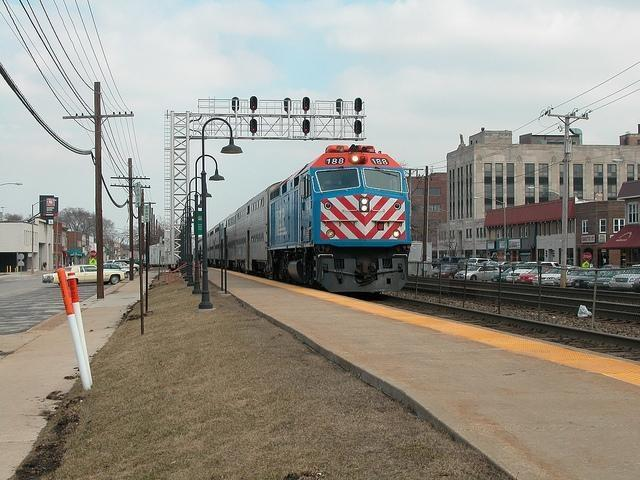car: (42, 263, 125, 286), (506, 262, 560, 282), (609, 266, 640, 292), (497, 260, 528, 284), (454, 267, 498, 280), (517, 266, 551, 282), (534, 267, 562, 286), (107, 262, 137, 276), (430, 266, 462, 278), (438, 257, 470, 264), (466, 258, 492, 266), (111, 259, 131, 267), (457, 258, 470, 268)
